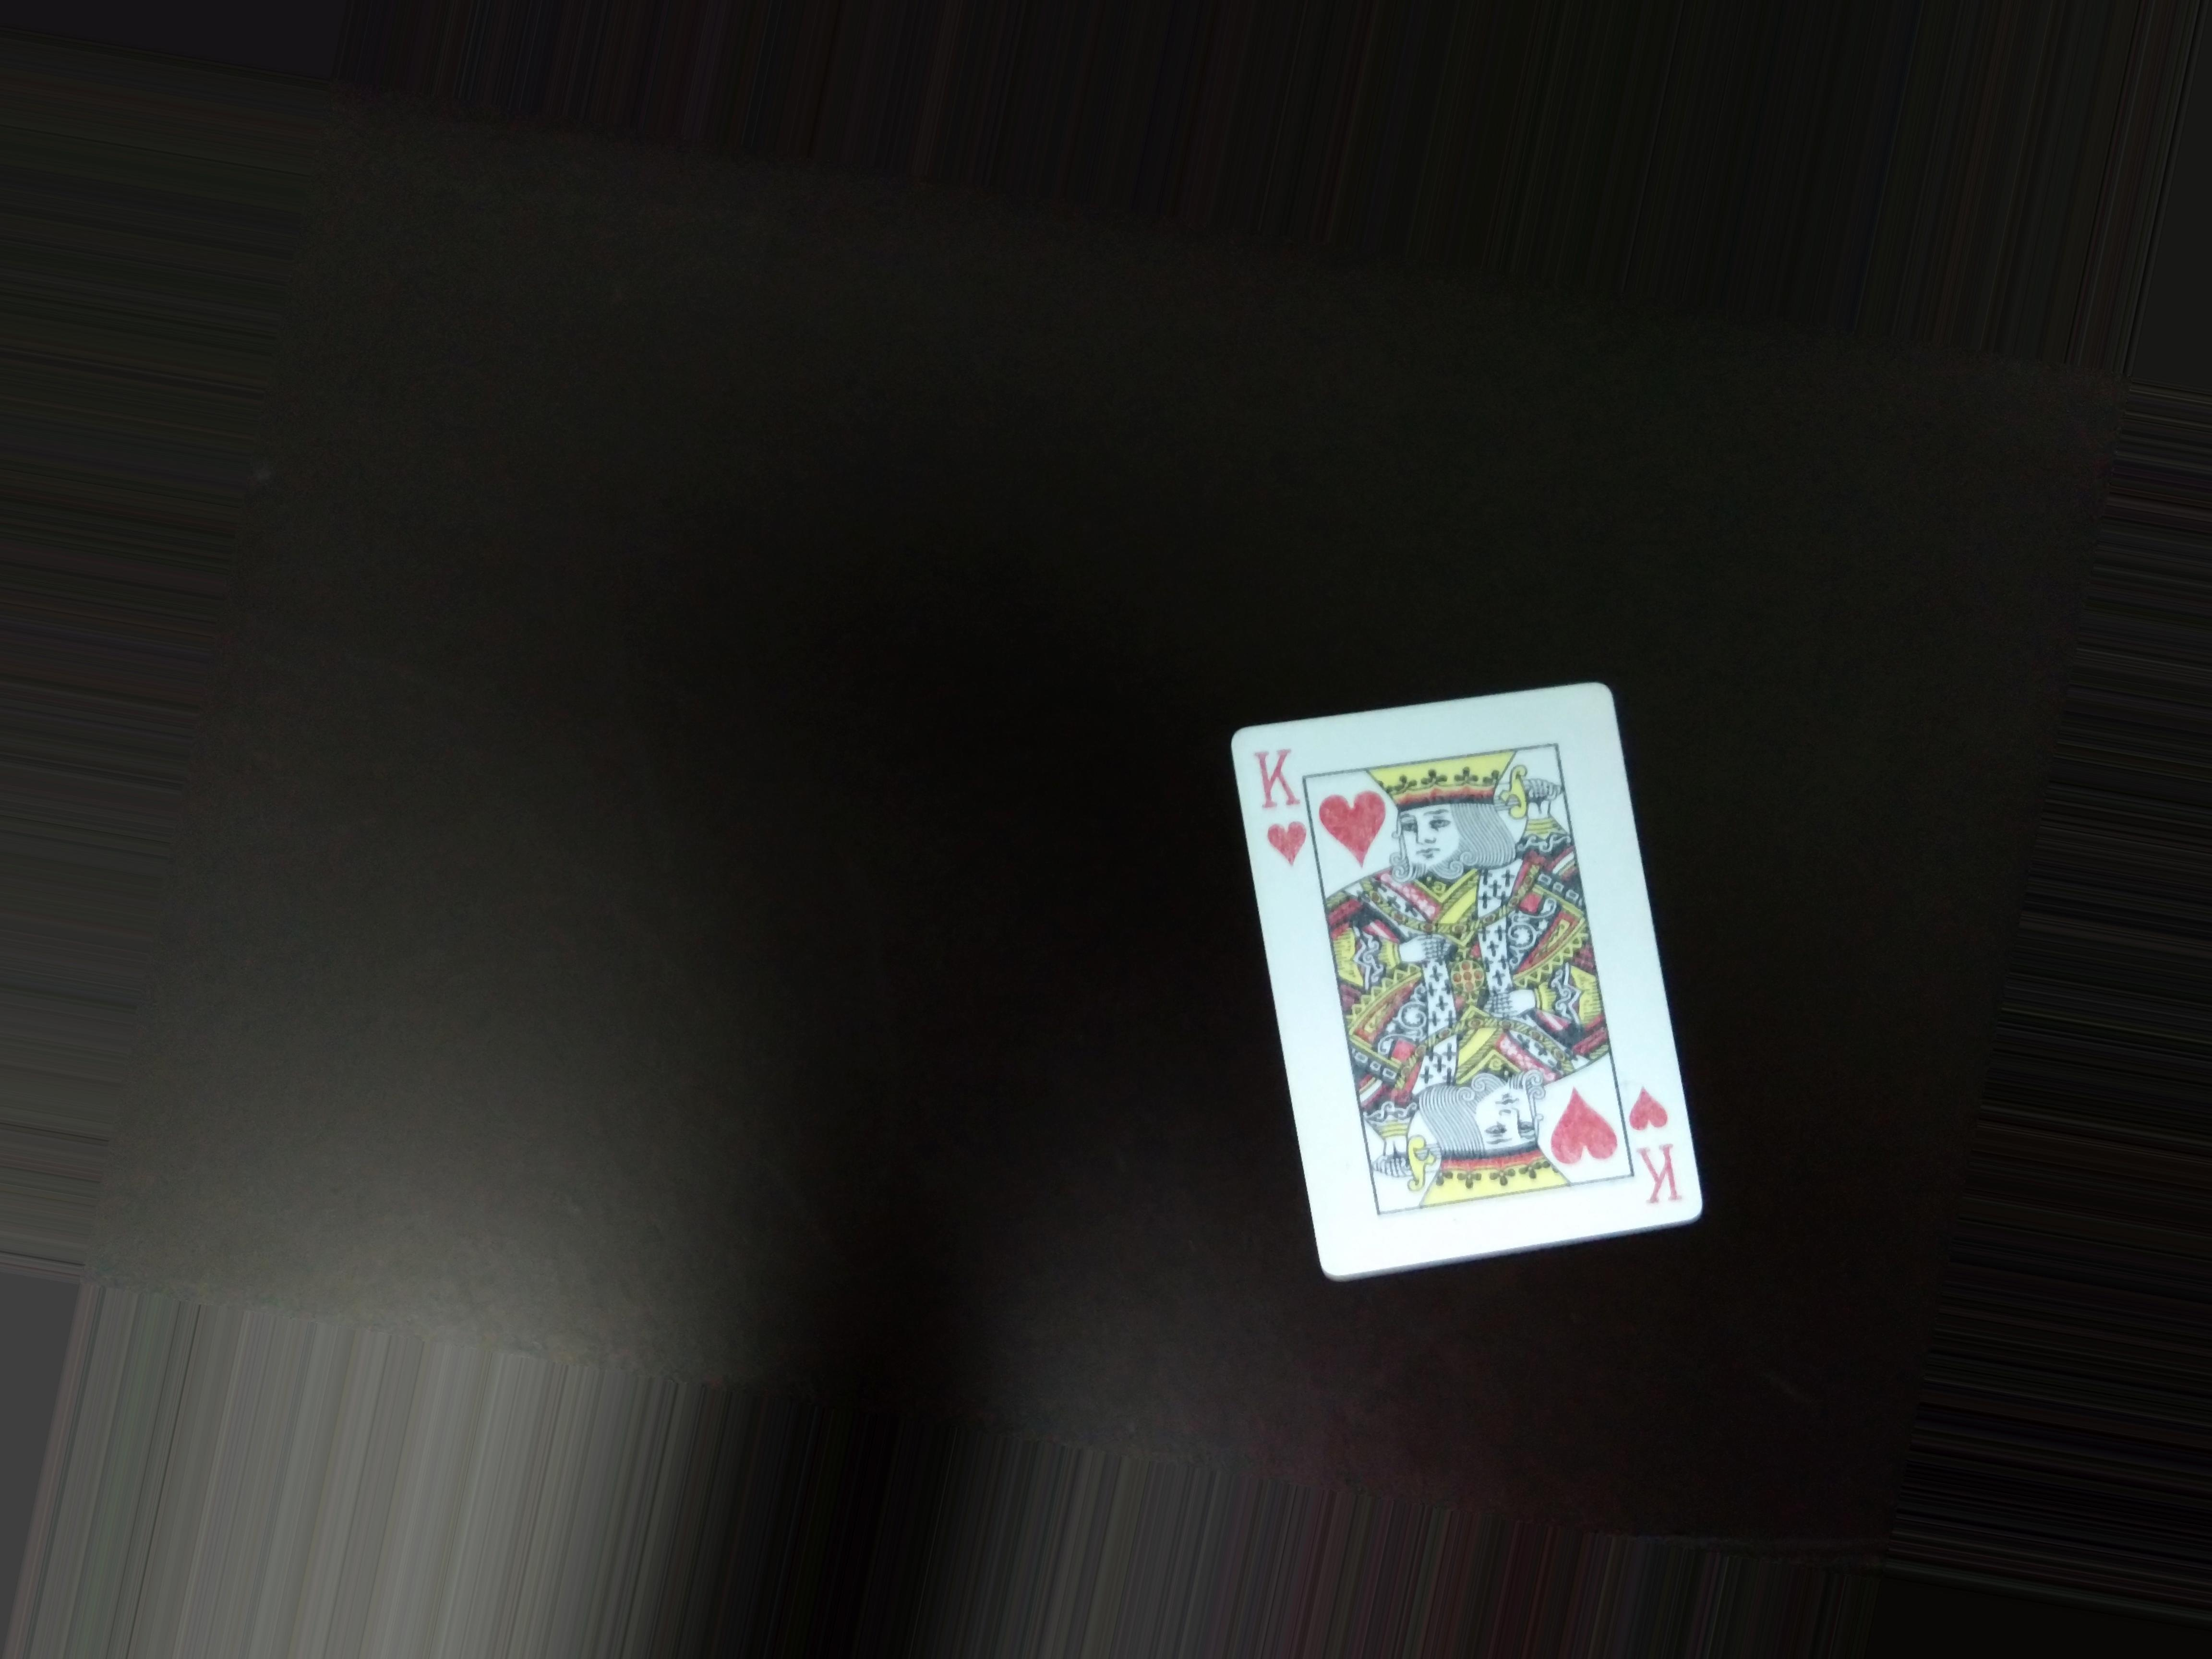KH: (1625, 1082, 1691, 1215)
